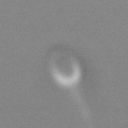normal: (68, 87, 93, 128)
